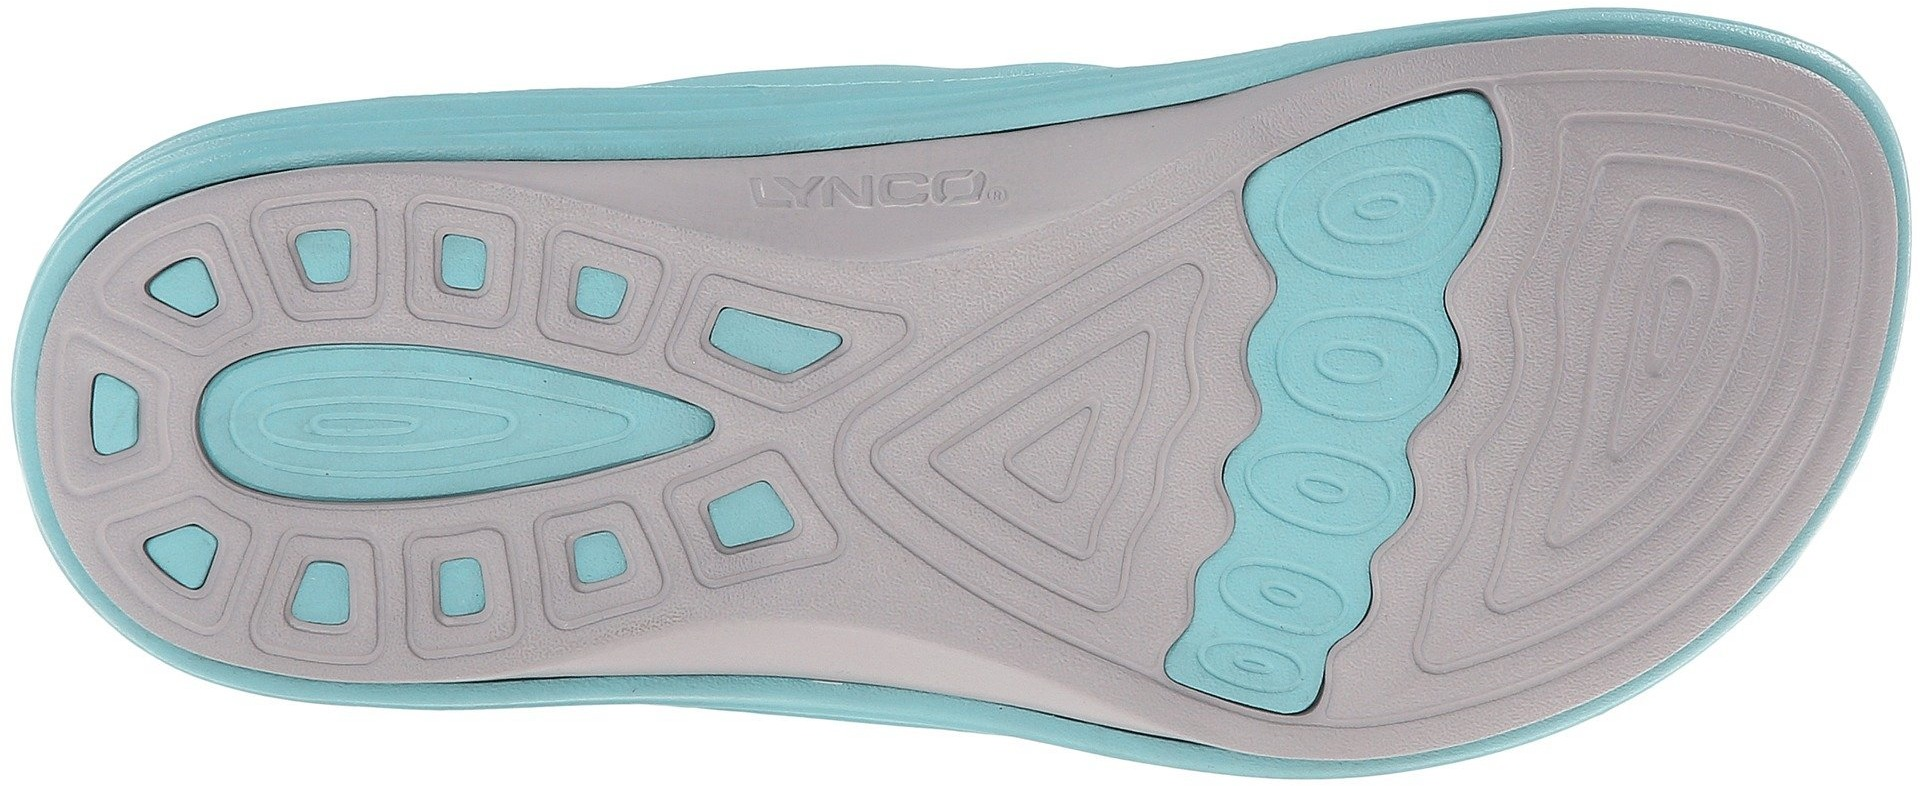circle: (1280, 148, 1442, 302), (291, 367, 452, 490), (1265, 324, 1404, 451), (1236, 477, 1367, 602)
quad: (524, 493, 676, 645), (527, 215, 672, 361)
text: (770, 144, 885, 261), (898, 167, 997, 264)
triangle: (899, 301, 1220, 585)
